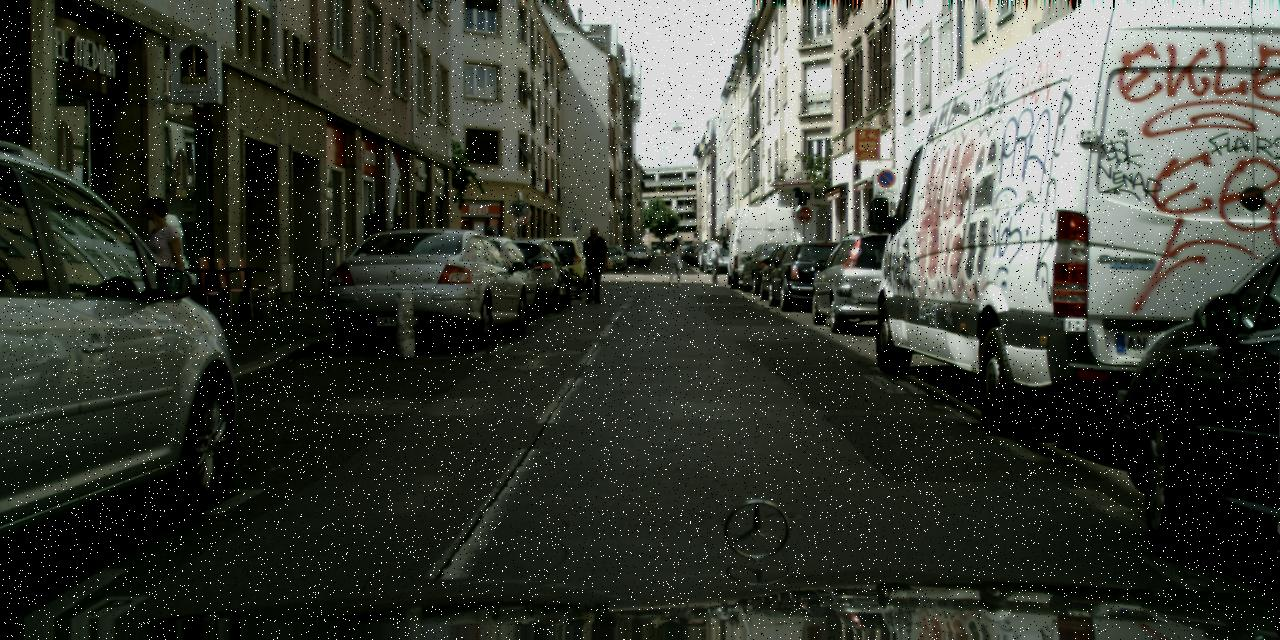ped: (126, 196, 196, 368), (354, 204, 386, 284), (578, 226, 608, 303), (384, 215, 411, 282), (454, 220, 480, 282), (664, 237, 684, 286), (484, 226, 504, 273), (706, 236, 724, 283), (720, 237, 729, 260)
